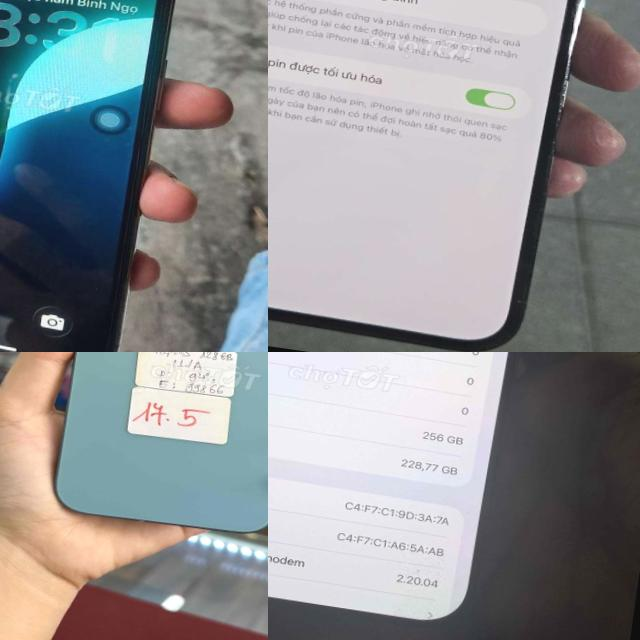gen_11: (0, 0, 187, 352)
gen_12_13: (268, 0, 631, 352)
gen_16: (268, 352, 515, 620), (55, 352, 268, 531)
